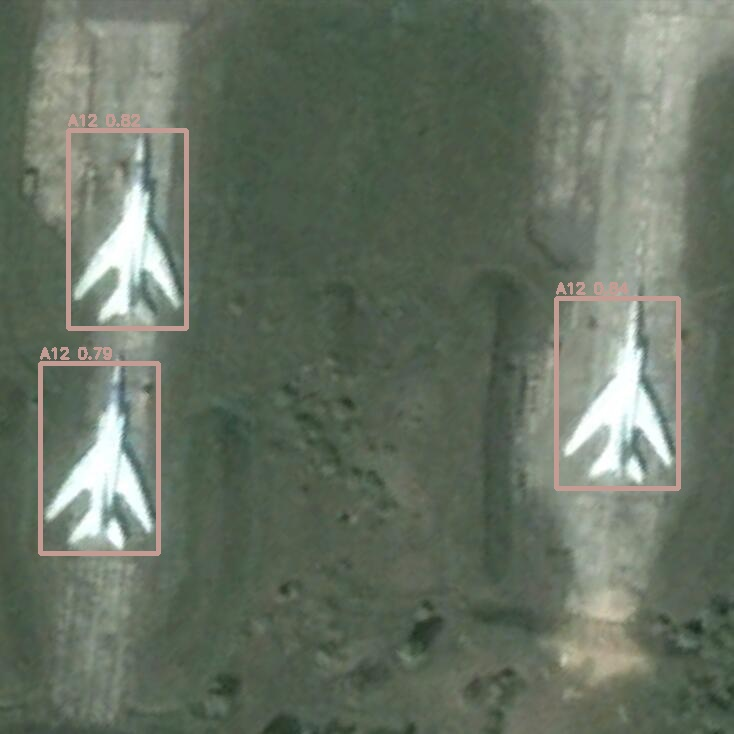A12: (68, 130, 186, 328), (556, 298, 678, 488), (40, 363, 158, 553)
